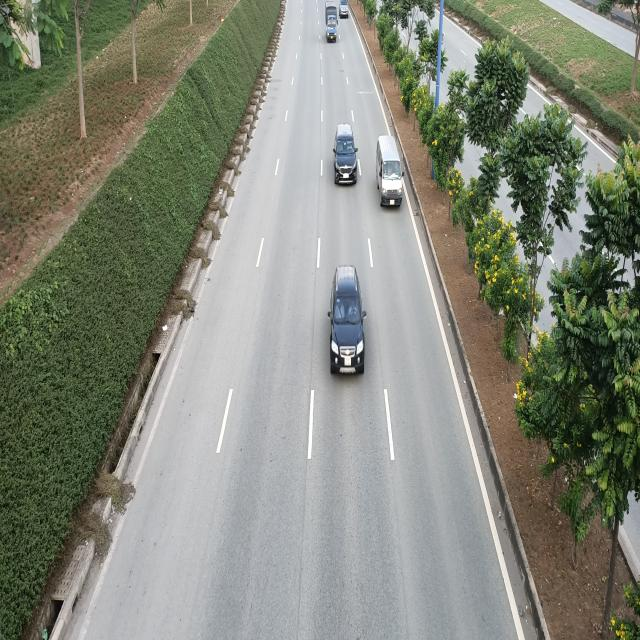car: (329, 268, 368, 379), (334, 123, 360, 185)
truck: (324, 1, 338, 42)
van: (373, 138, 402, 211)
